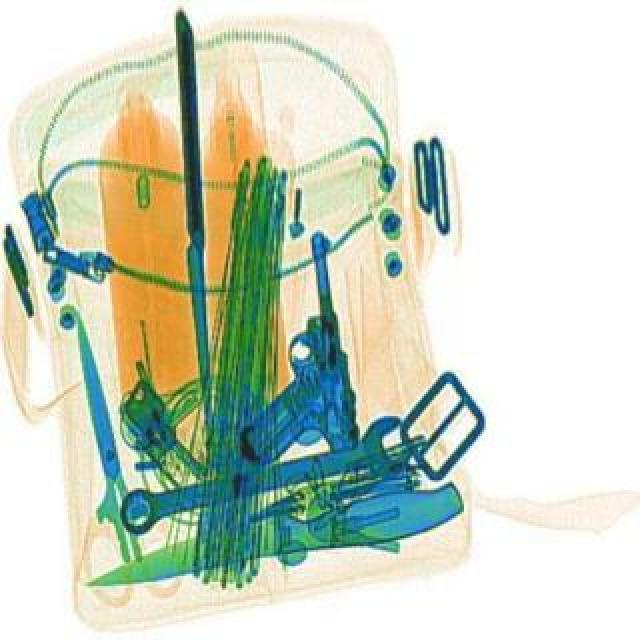gun: (212, 228, 360, 464)
knife: (78, 468, 466, 606), (50, 308, 154, 564), (168, 10, 220, 452)
scissors: (110, 406, 418, 538)
